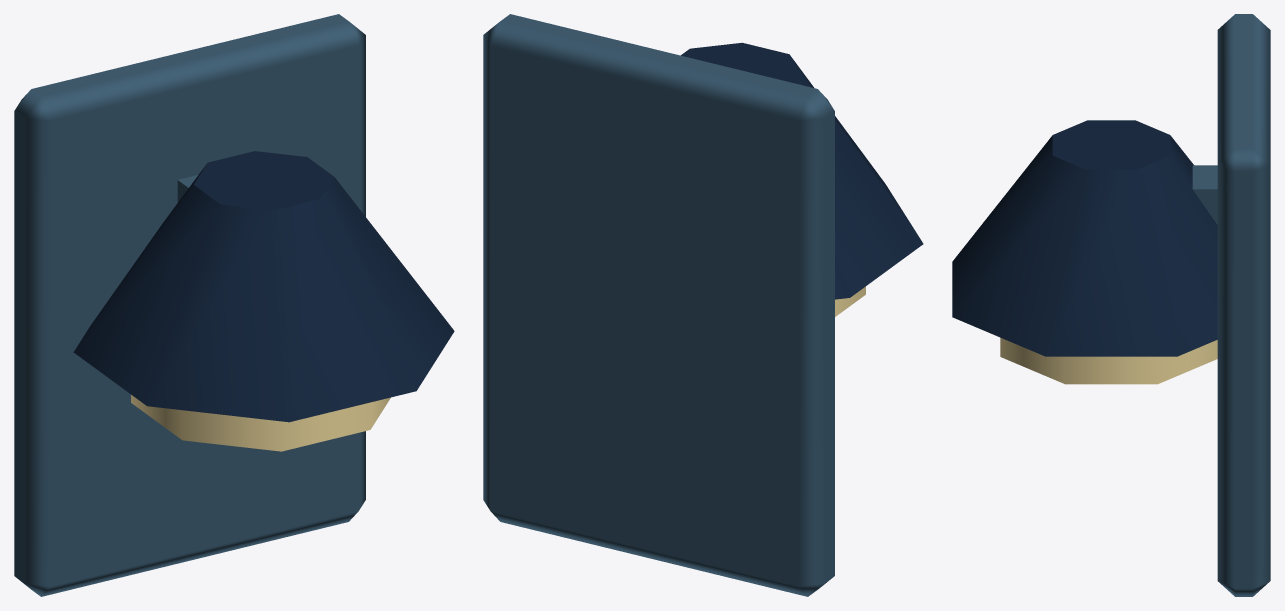
Rendered from CM_Shell_WallLight.fbx.
3 renders of one model, left to right at view 1: azimuth 30°, elevation 25°; view 2: azimuth 150°, elevation 25°; view 3: azimuth 270°, elevation 25°, orthographic. The views are drawn at different scales.
Visible parts, largest first — view 1: Body, Light; view 2: Body; view 3: Body, Light.
Boxes of the visible parts, <box> form: Body: <box>14,14,454,596</box>; Light: <box>131,394,390,451</box>; Body: <box>483,14,923,596</box>; Body: <box>952,14,1270,596</box>; Light: <box>1000,337,1217,384</box>.
Bounding box in the file's own units: 1 × 0.9 × 1.4.
Materials: 1 (1 with a texture image).
